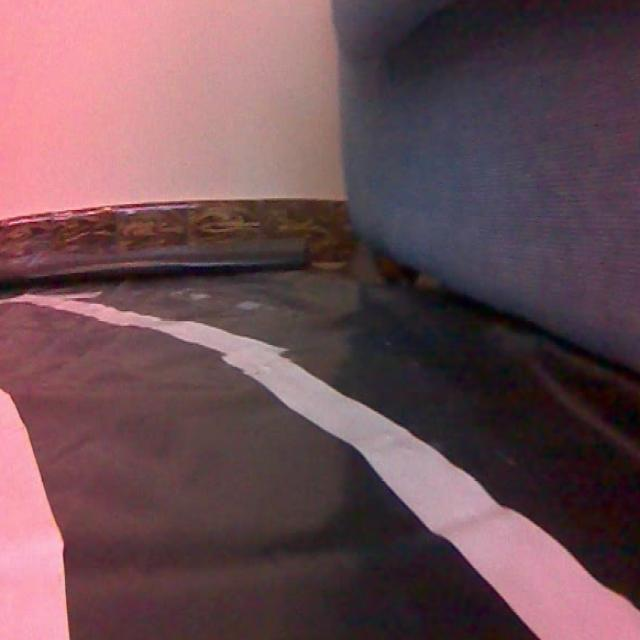LineaCarril: (12, 295, 640, 640), (0, 389, 70, 640)
